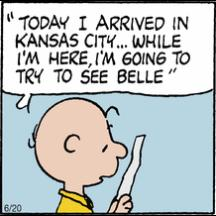charlie: (28, 97, 146, 215)
